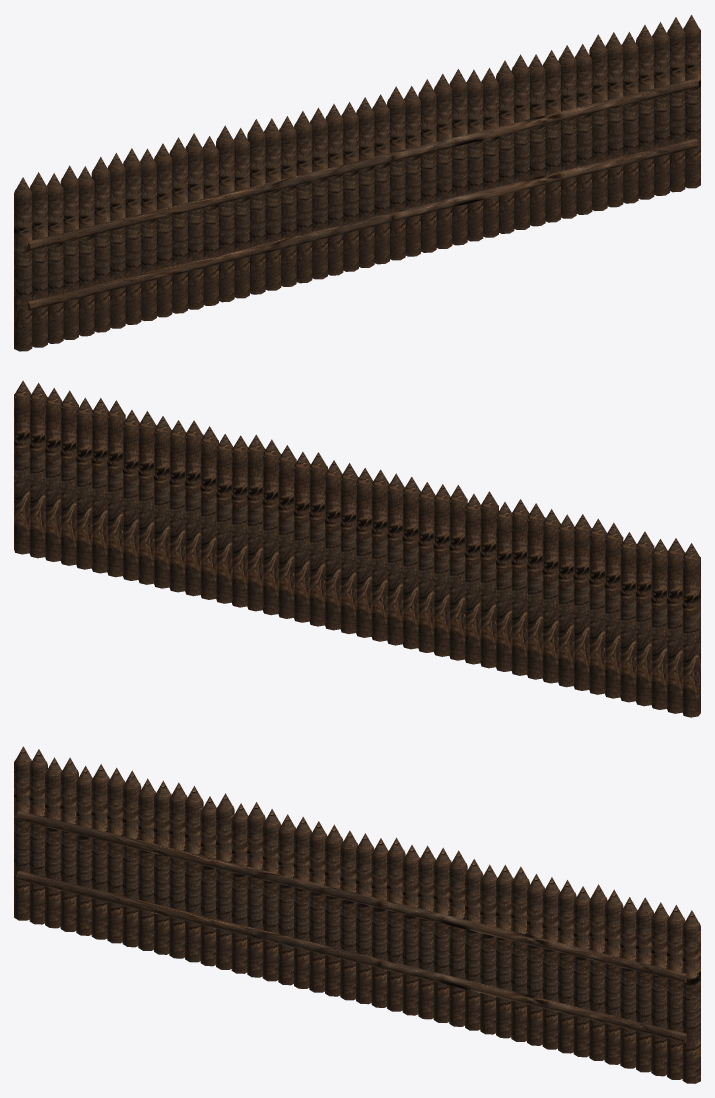
File: palisade.glb
3 views of the same model, one above another, from view 1: azimuth 30°, elevation 25°; view 2: azimuth 150°, elevation 25°; view 3: azimuth 330°, elevation 25° (orthographic).
Parts seen in each view (by area): view 1: part_0; view 2: part_0; view 3: part_0.
Part boxes in pixels (bbox=[...]): part_0: bbox=[14, 15, 700, 351]; part_0: bbox=[14, 380, 700, 717]; part_0: bbox=[14, 746, 700, 1083].
Size of the model in its own units: 7.53 by 1.82 by 0.2226.
1 material, 1 textured.
